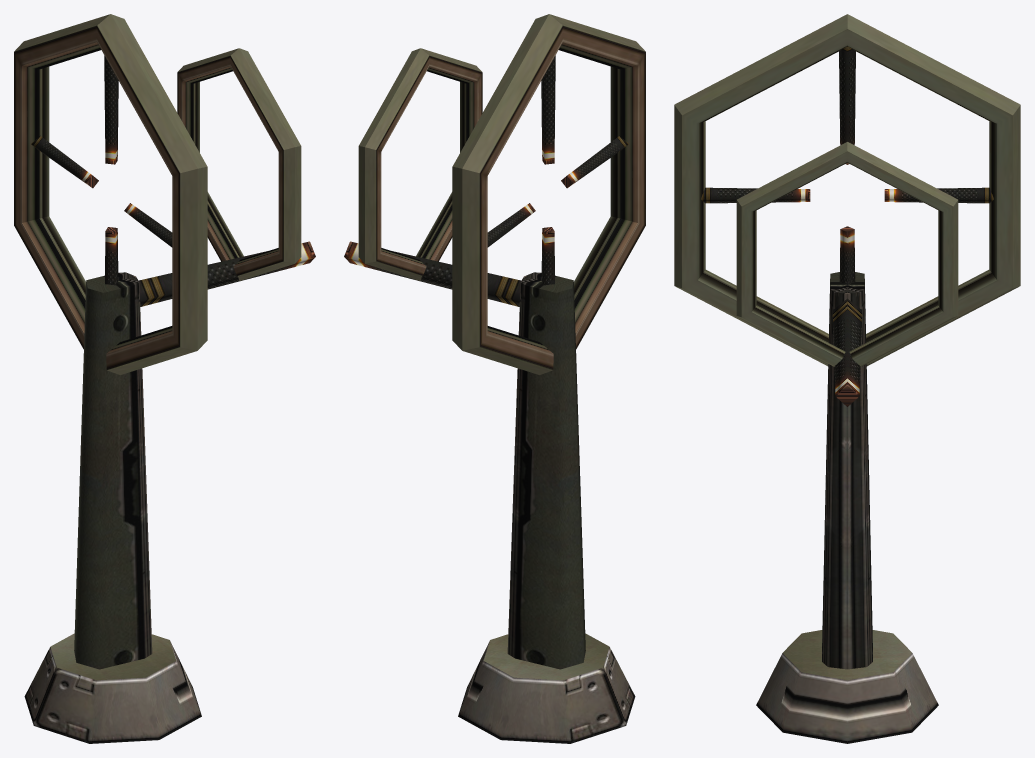
File: sights.obj
The picture shows the model from 3 angles, left to right: view 1: azimuth 30°, elevation 25°; view 2: azimuth 150°, elevation 25°; view 3: azimuth 270°, elevation 25°; orthographic projection.
Parts seen in each view (by area): view 1: group35 pTorus5, pCylinder36 group35, group35 pCylinder37, group35 pTorus6, group35 pCube76, group35 group33 pCube78, group35 pCube77 group34, group35 pCube77 group33, group35 group34 pCube78; view 2: group35 pTorus5, pCylinder36 group35, group35 pCylinder37, group35 pTorus6, group35 pCube76, group35 group33 pCube78, group35 group34 pCube78, group35 pCube77 group33, group35 pCube77 group34; view 3: group35 pTorus5, pCylinder36 group35, group35 pCylinder37, group35 pTorus6, group35 pCube76, group35 group33 pCube78, group35 pCube77 group34, group35 group34 pCube78, group35 pCube77 group33.
Part boxes in pixels (box(x1,y1,x2,y2)): group35 pTorus5: box(14, 14, 207, 374); pCylinder36 group35: box(74, 272, 152, 669); group35 pCylinder37: box(24, 633, 201, 743); group35 pTorus6: box(177, 48, 301, 281); group35 pCube76: box(138, 241, 315, 306); group35 group33 pCube78: box(104, 55, 118, 164); group35 pCube77 group34: box(31, 135, 98, 188); group35 pCube77 group33: box(105, 227, 118, 285); group35 group34 pCube78: box(124, 203, 172, 247); group35 pTorus5: box(452, 14, 645, 374); pCylinder36 group35: box(507, 272, 585, 669); group35 pCylinder37: box(458, 633, 635, 743); group35 pTorus6: box(358, 48, 482, 281); group35 pCube76: box(344, 241, 521, 306); group35 group33 pCube78: box(541, 55, 555, 164); group35 group34 pCube78: box(561, 135, 628, 188); group35 pCube77 group33: box(541, 227, 554, 285); group35 pCube77 group34: box(487, 203, 535, 247); group35 pTorus5: box(674, 14, 1020, 366); pCylinder36 group35: box(822, 272, 872, 669); group35 pCylinder37: box(756, 630, 938, 743); group35 pTorus6: box(736, 142, 958, 366); group35 pCube76: box(832, 298, 862, 406); group35 group33 pCube78: box(839, 46, 855, 164); group35 pCube77 group34: box(884, 187, 993, 203); group35 group34 pCube78: box(701, 187, 810, 203); group35 pCube77 group33: box(839, 226, 855, 284).
Bounding box in the file's own units: 5.01 × 12.02 × 5.47.
2 materials, 2 textured.
